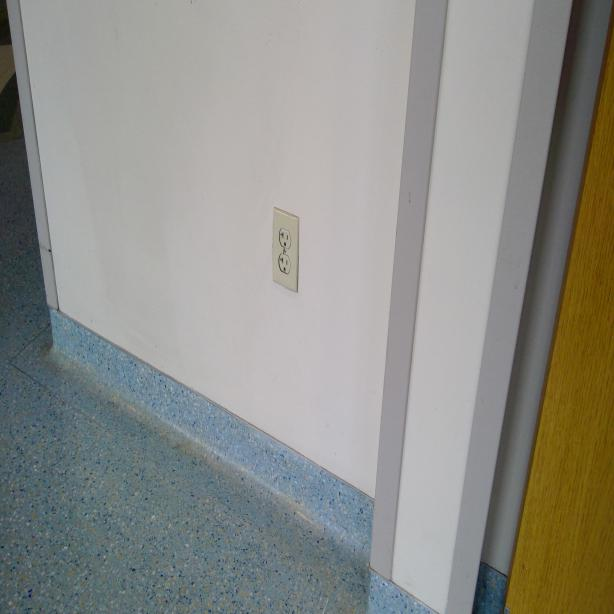typeb: (277, 224, 293, 248), (278, 251, 291, 276)
